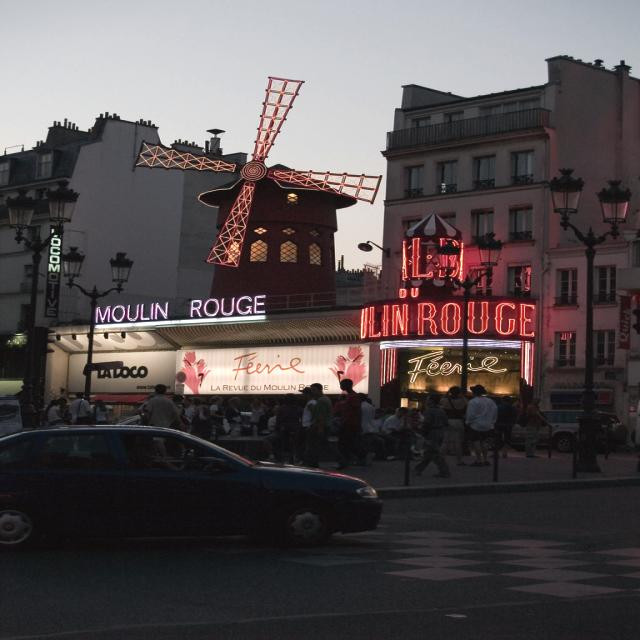Car: (2, 422, 381, 559)
